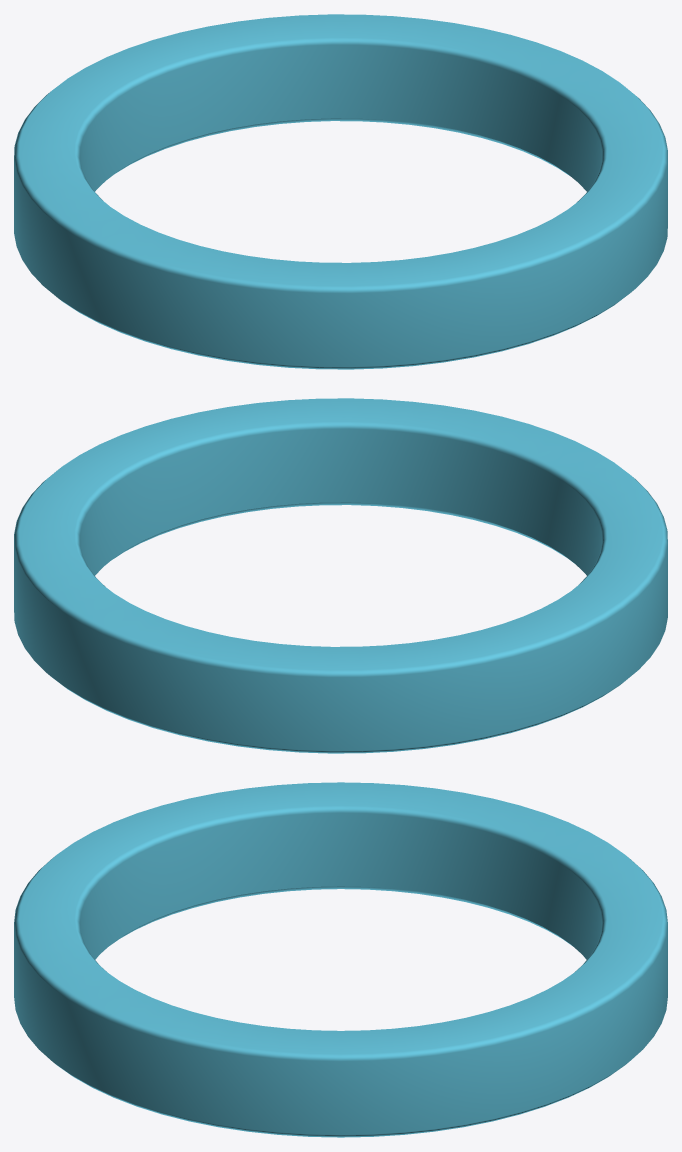
3 renders of one model, top to bottom at view 1: azimuth 30°, elevation 25°; view 2: azimuth 150°, elevation 25°; view 3: azimuth 270°, elevation 25°, orthographic.
Visible parts, largest first — view 1: seal_body; view 2: seal_body; view 3: seal_body.
Part boxes in pixels (<box>): seal_body: <box>14,14,667,369</box>; seal_body: <box>14,398,667,753</box>; seal_body: <box>14,782,667,1137</box>.
Size of the model in its own units: 0.0676 by 0.00952 by 0.0676.
